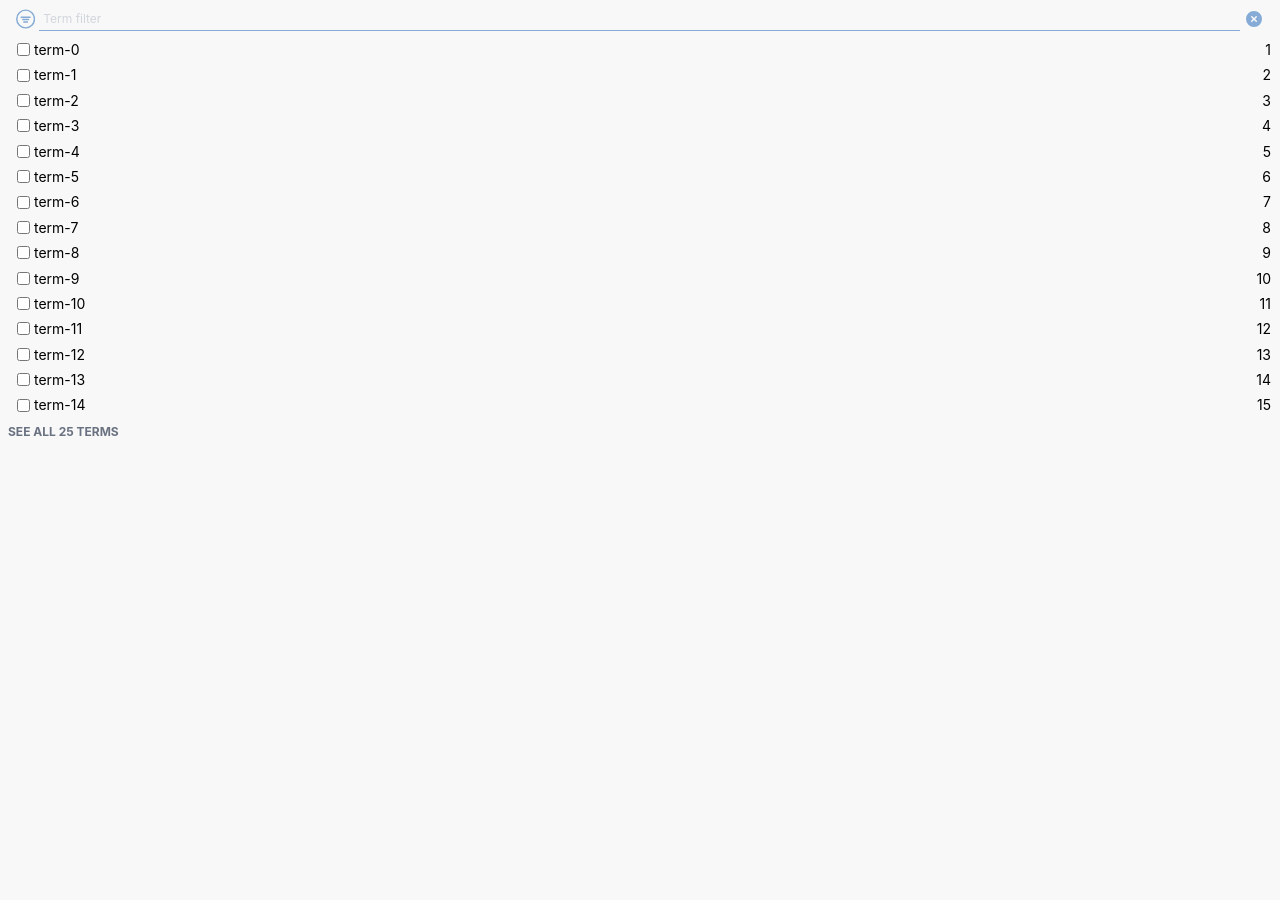
Test: Test the StandardTerms component › a StandardTerms with many terms shows term filter and collapse control
This screenshot has width=1280, height=900.
Expected: the element with test id "facet-term-filter-test_field" is shown, x1=0 y1=6 x2=1279 y2=31
Expected: the field with placeholder "Term filter" is shown, x1=39 y1=6 x2=1240 y2=31
# Click the collapse control to expand
Click the button with test id "facet-term-collapse-test_field" at {"x": 63, "y": 432}, box x1=8 y1=424 x2=119 y2=440
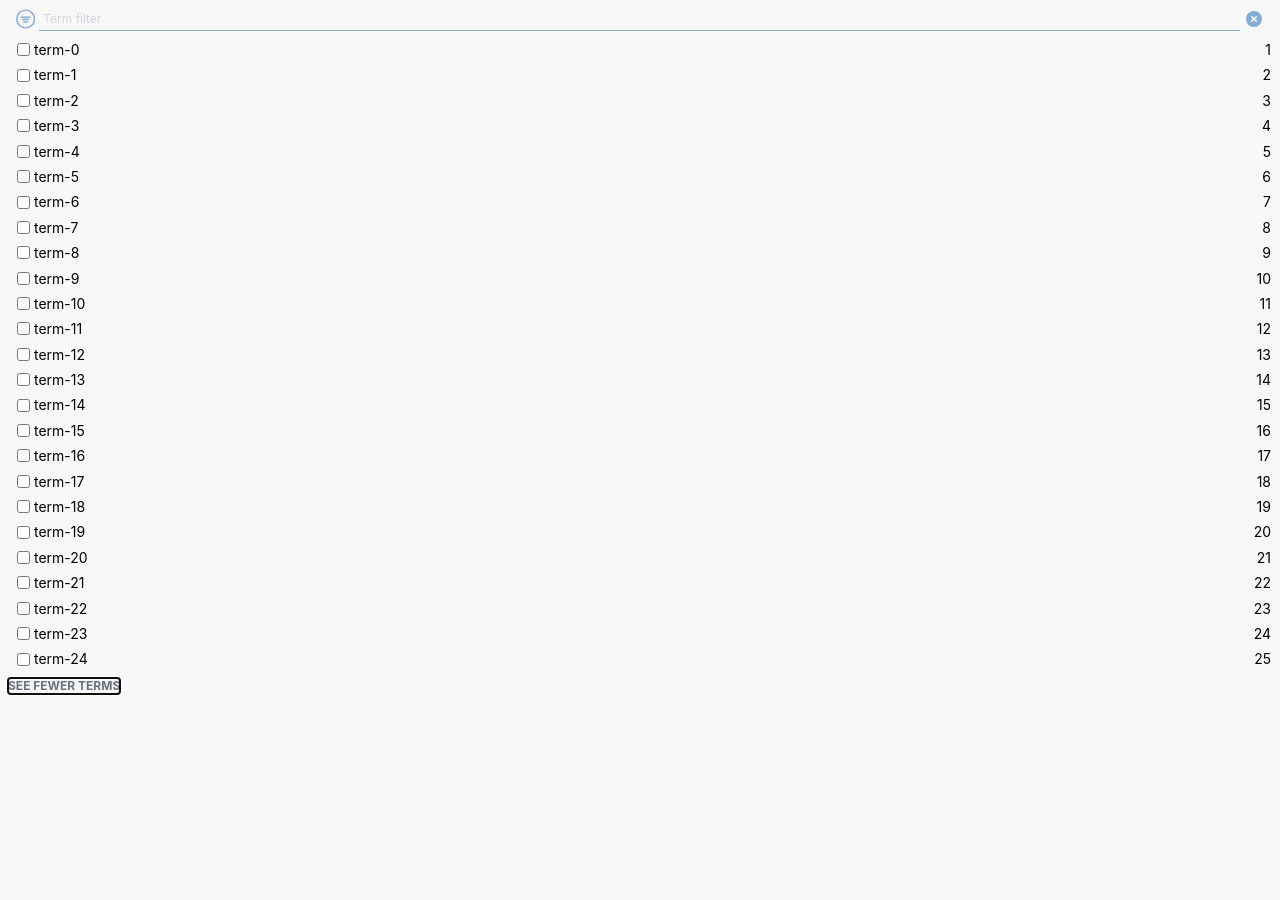
Now the button with test id "facet-term-collapse-test_field" reads "See fewer terms"
Now the list item with test id "^facetterm-test_field-term-15$" is shown, box x1=8 y1=418 x2=1279 y2=443
Now the list item with test id "^facetterm-test_field-term-24$" is shown, box x1=8 y1=646 x2=1279 y2=672
# Click again to collapse - the button text should change
Click the button with test id "facet-term-collapse-test_field" at {"x": 64, "y": 686}, box x1=8 y1=678 x2=120 y2=694
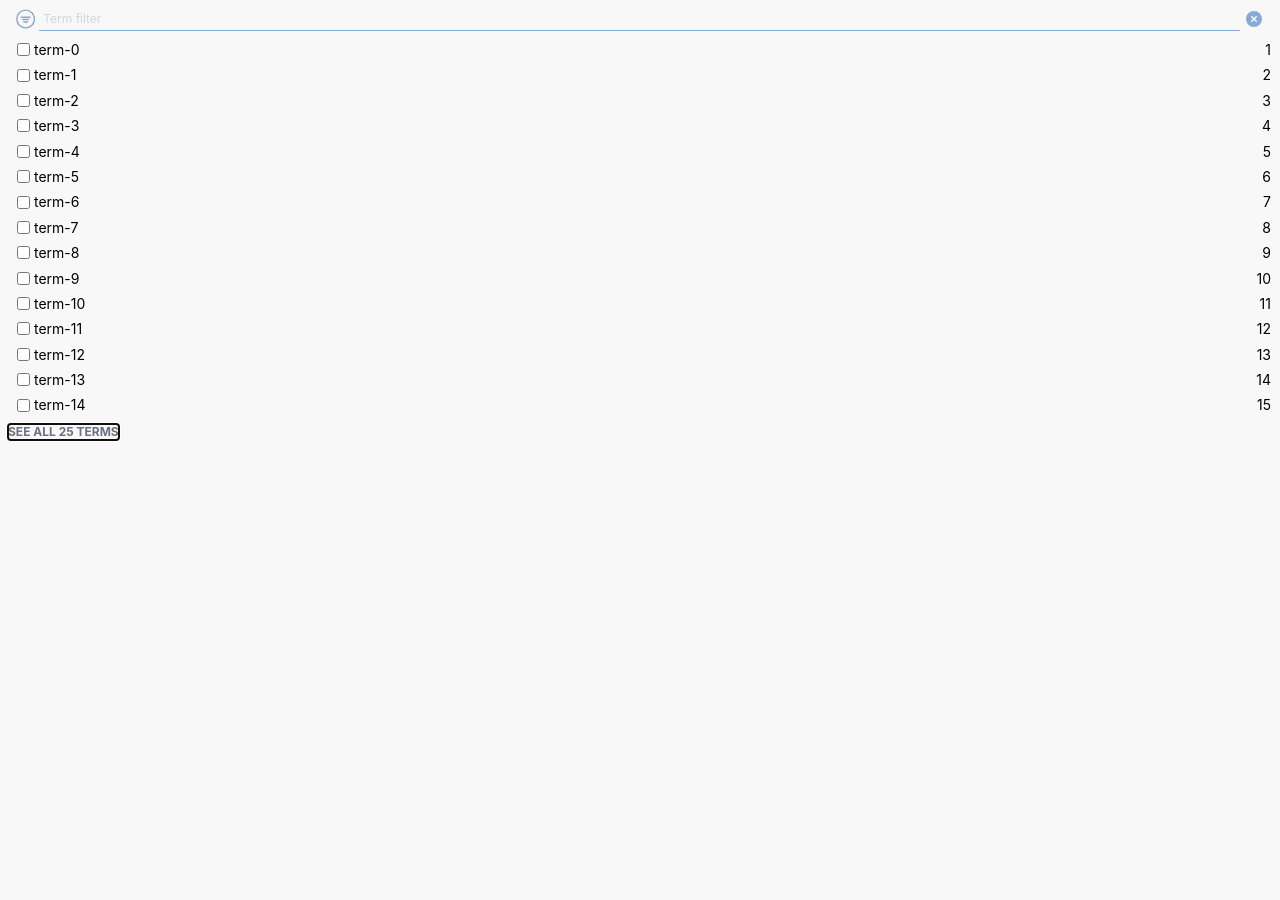
Now the button with test id "facet-term-collapse-test_field" reads "See all 25 terms", box x1=8 y1=424 x2=119 y2=440
